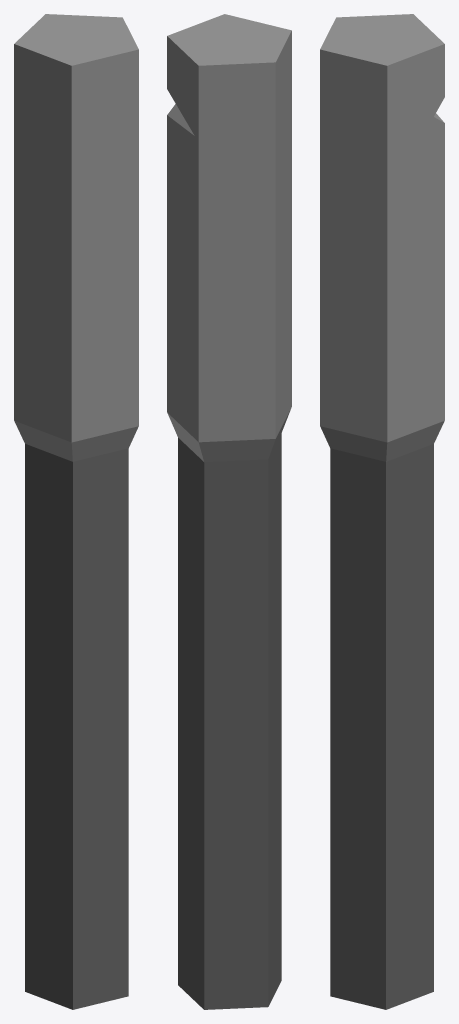
Rendered from Lever_Handle.fbx.
The picture shows the model from 3 angles, left to right: view 1: azimuth 30°, elevation 25°; view 2: azimuth 150°, elevation 25°; view 3: azimuth 330°, elevation 25°; orthographic projection.
Parts seen in each view (by area): view 1: Lever_Handle; view 2: Lever_Handle; view 3: Lever_Handle.
Boxes of the visible parts, left/top/right/bottom form: Lever_Handle: left=14, top=14, right=138, bottom=1009; Lever_Handle: left=167, top=14, right=291, bottom=1009; Lever_Handle: left=320, top=14, right=444, bottom=1009.
Size of the model in its own units: 39.83 by 332 by 37.88.
